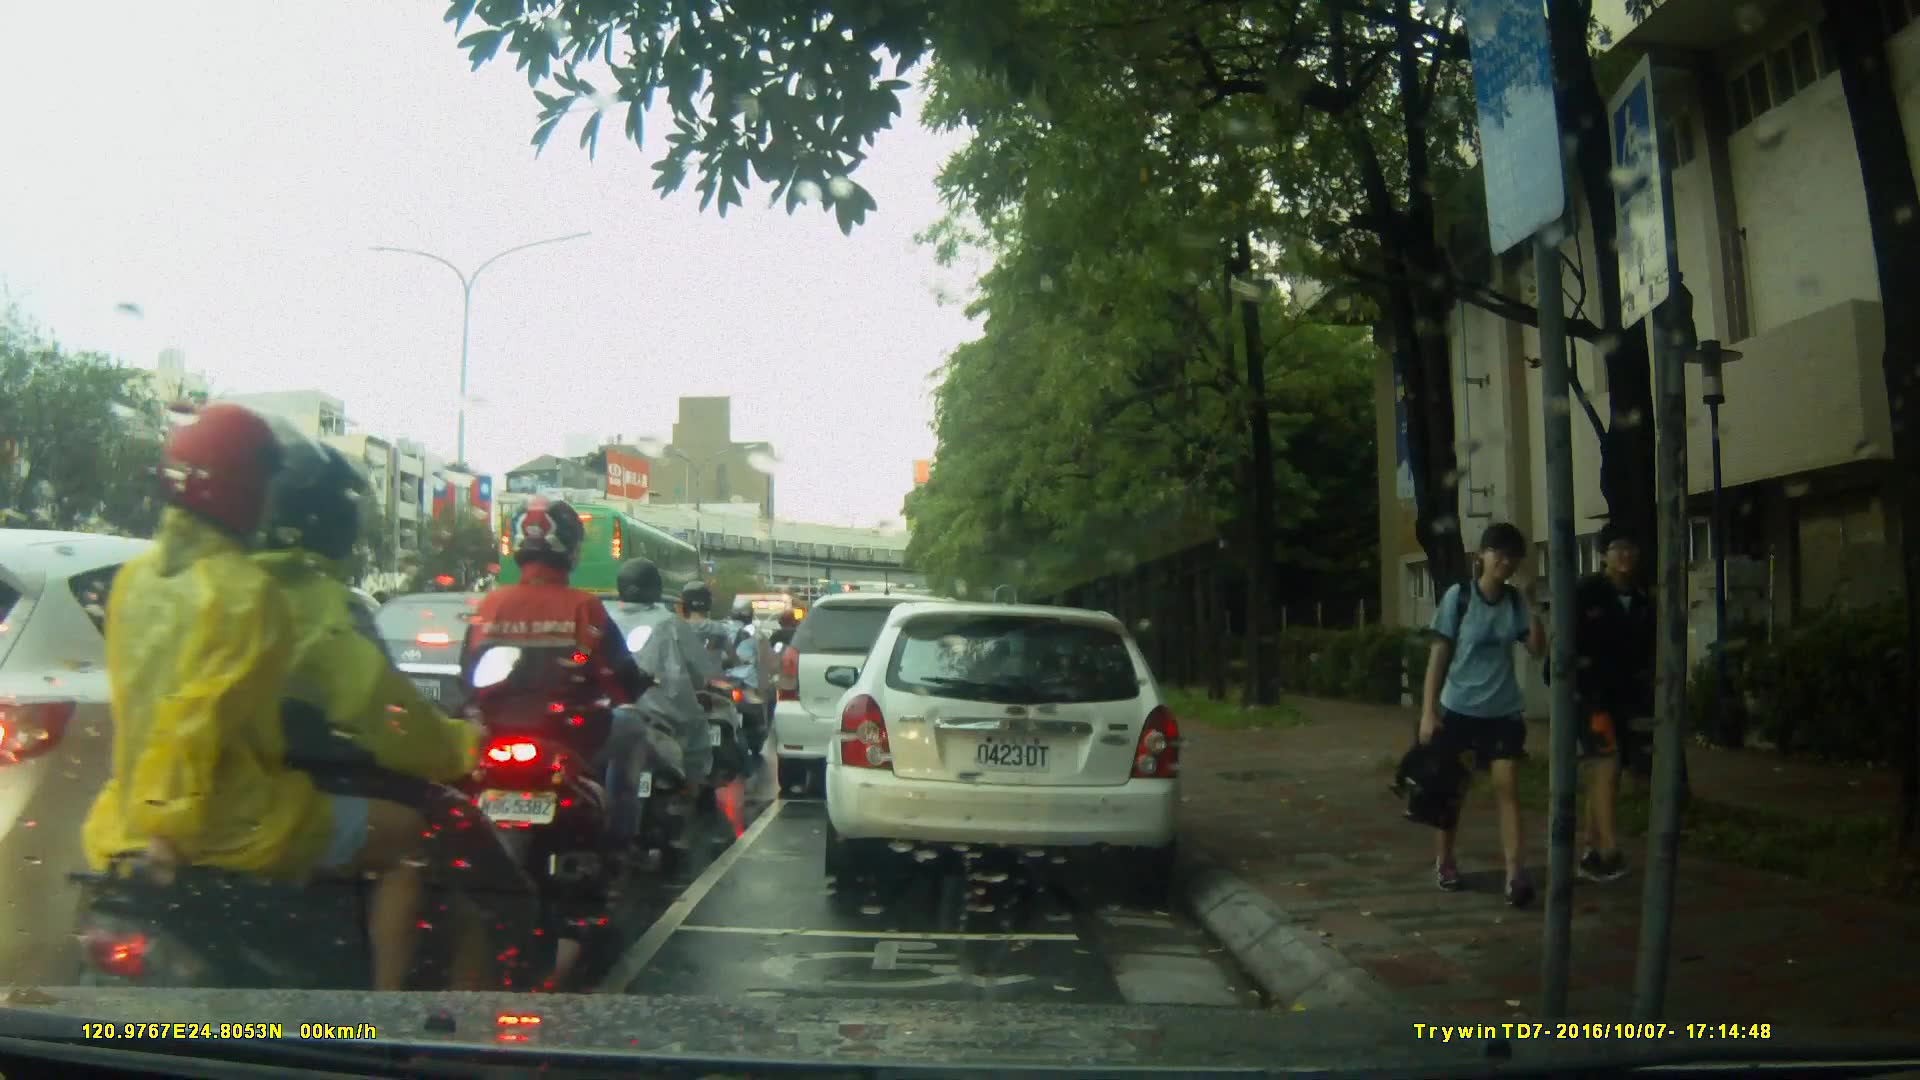pedestrian: (1381, 515, 1566, 910), (1545, 524, 1688, 902)
rider: (78, 406, 543, 1080), (450, 487, 653, 951), (583, 557, 737, 867), (663, 575, 741, 800), (711, 594, 783, 747), (767, 603, 810, 718)
vehicle: (1, 530, 457, 988), (831, 592, 1196, 897), (322, 590, 629, 776), (770, 590, 999, 803), (495, 501, 707, 636)
